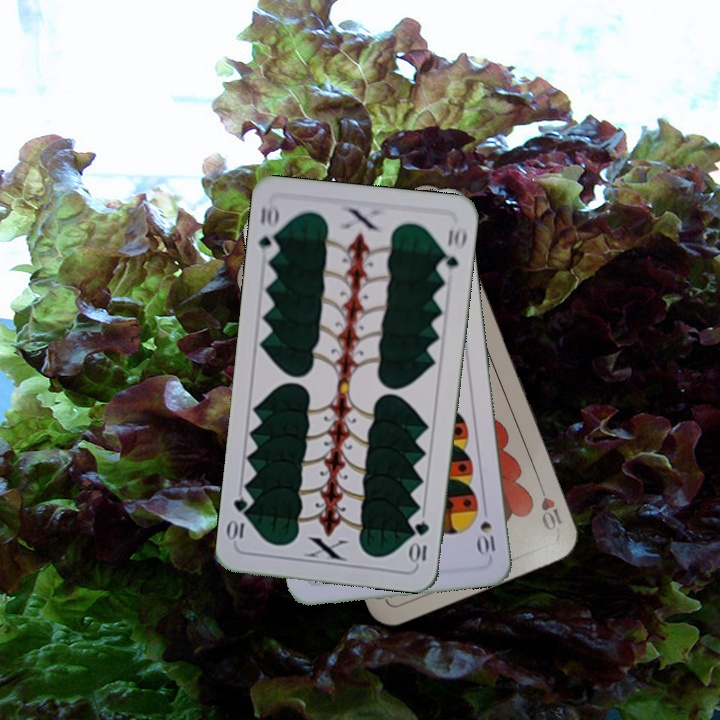G10: (254, 200, 283, 260), (408, 517, 432, 566)
H10: (534, 477, 565, 533)
S10: (475, 501, 498, 558)
